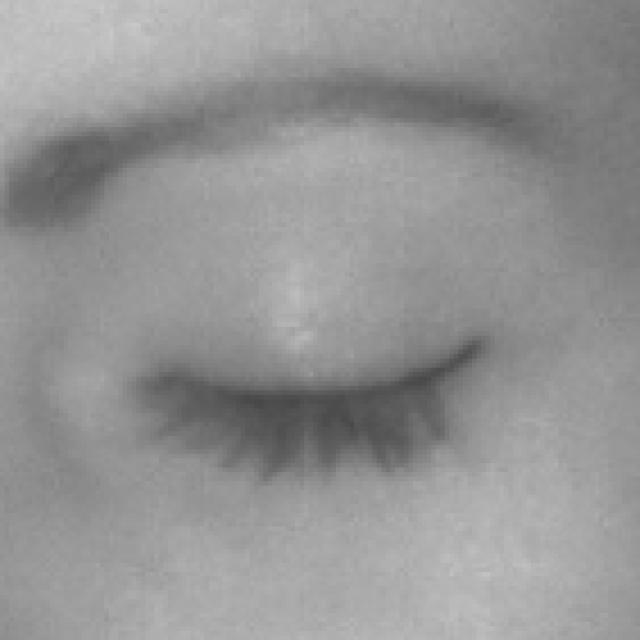close: (0, 54, 615, 561)
